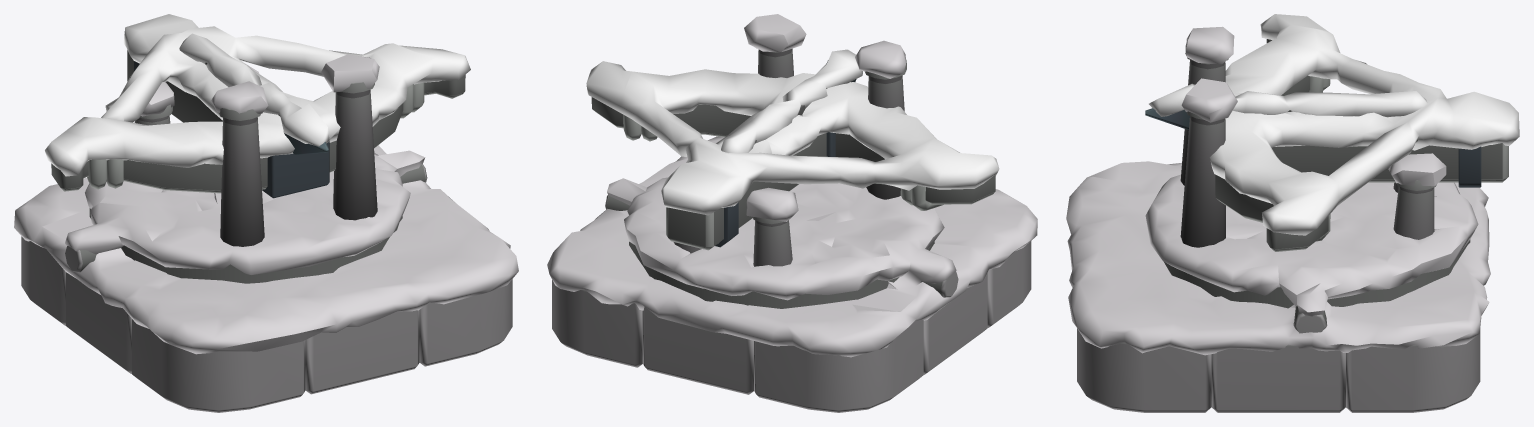
The model's file is AttackerSnowy_2.fbx.
3 renders of one model, left to right at view 1: azimuth 30°, elevation 25°; view 2: azimuth 150°, elevation 25°; view 3: azimuth 270°, elevation 25°, orthographic. The views are drawn at different scales.
Visible parts, largest first — view 1: AttackerSnowy_2, Bow 2.001, Arrow 2.001; view 2: AttackerSnowy_2, Bow 2.001, Arrow 2.001; view 3: AttackerSnowy_2, Bow 2.001, Arrow 2.001.
Part boxes in pixels (x1,y1,x2,y2): AttackerSnowy_2: (14, 54, 518, 412); Bow 2.001: (45, 14, 470, 198); Arrow 2.001: (179, 33, 329, 154); AttackerSnowy_2: (547, 14, 1037, 412); Bow 2.001: (586, 61, 999, 250); Arrow 2.001: (721, 49, 862, 152); AttackerSnowy_2: (1066, 26, 1490, 412); Bow 2.001: (1209, 14, 1519, 251); Arrow 2.001: (1145, 83, 1427, 129).
Bounding box in the file's own units: 236 × 143 × 219.
